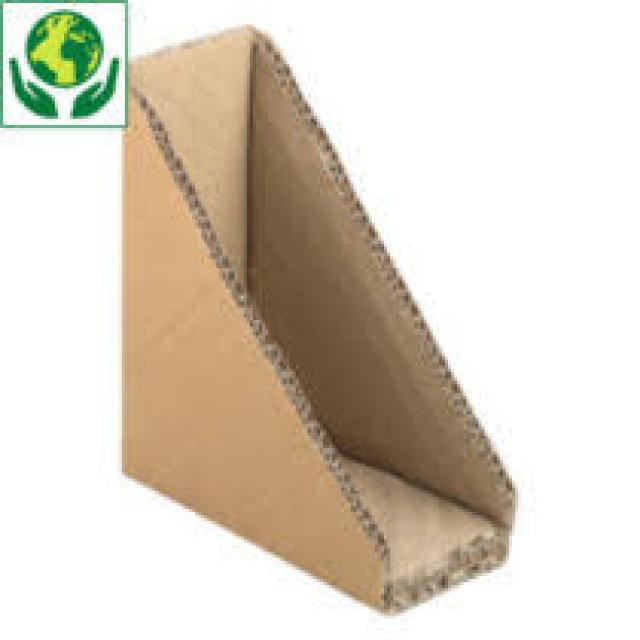cardboard: (113, 18, 515, 613)
